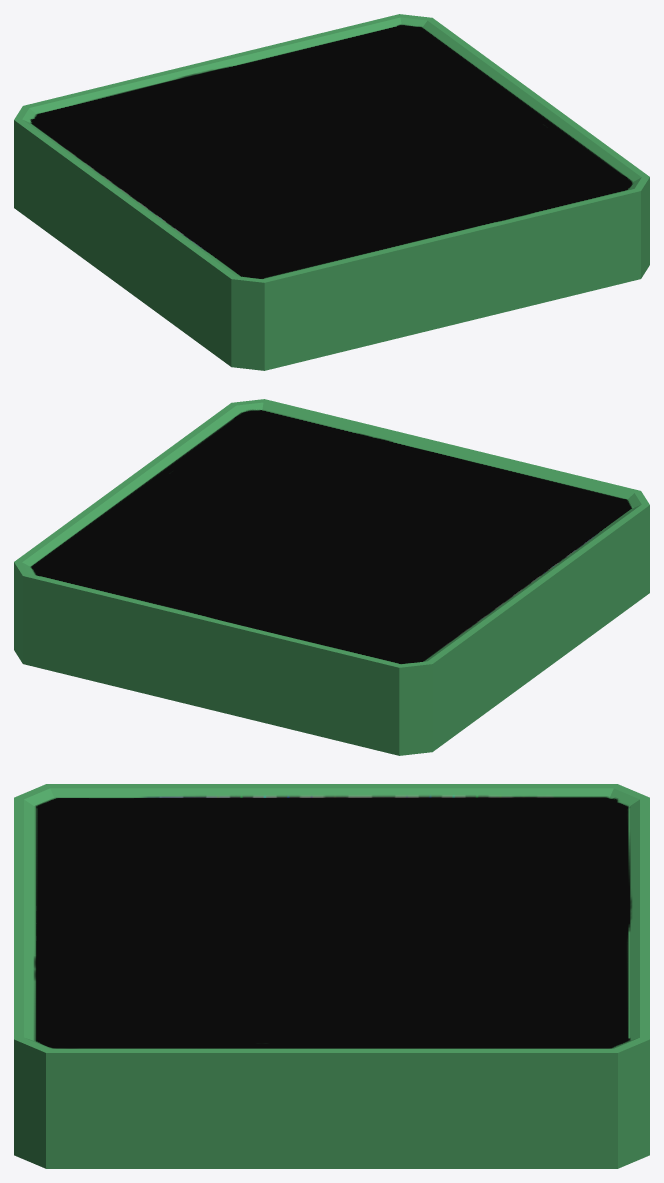
File: platformTest.glb
3 views of the same model, one above another, from view 1: azimuth 30°, elevation 25°; view 2: azimuth 150°, elevation 25°; view 3: azimuth 270°, elevation 25° (orthographic). The views are drawn at different scales.
Parts seen in each view (by area): view 1: Cube.001; view 2: Cube.001; view 3: Cube.001.
Boxes of the visible parts, x1,y1,x2,y2 form: Cube.001: [14, 14, 649, 370]; Cube.001: [14, 399, 649, 755]; Cube.001: [14, 784, 649, 1168].
Size of the model in its own units: 4.97 by 1 by 4.97.
1 material, 1 textured.
